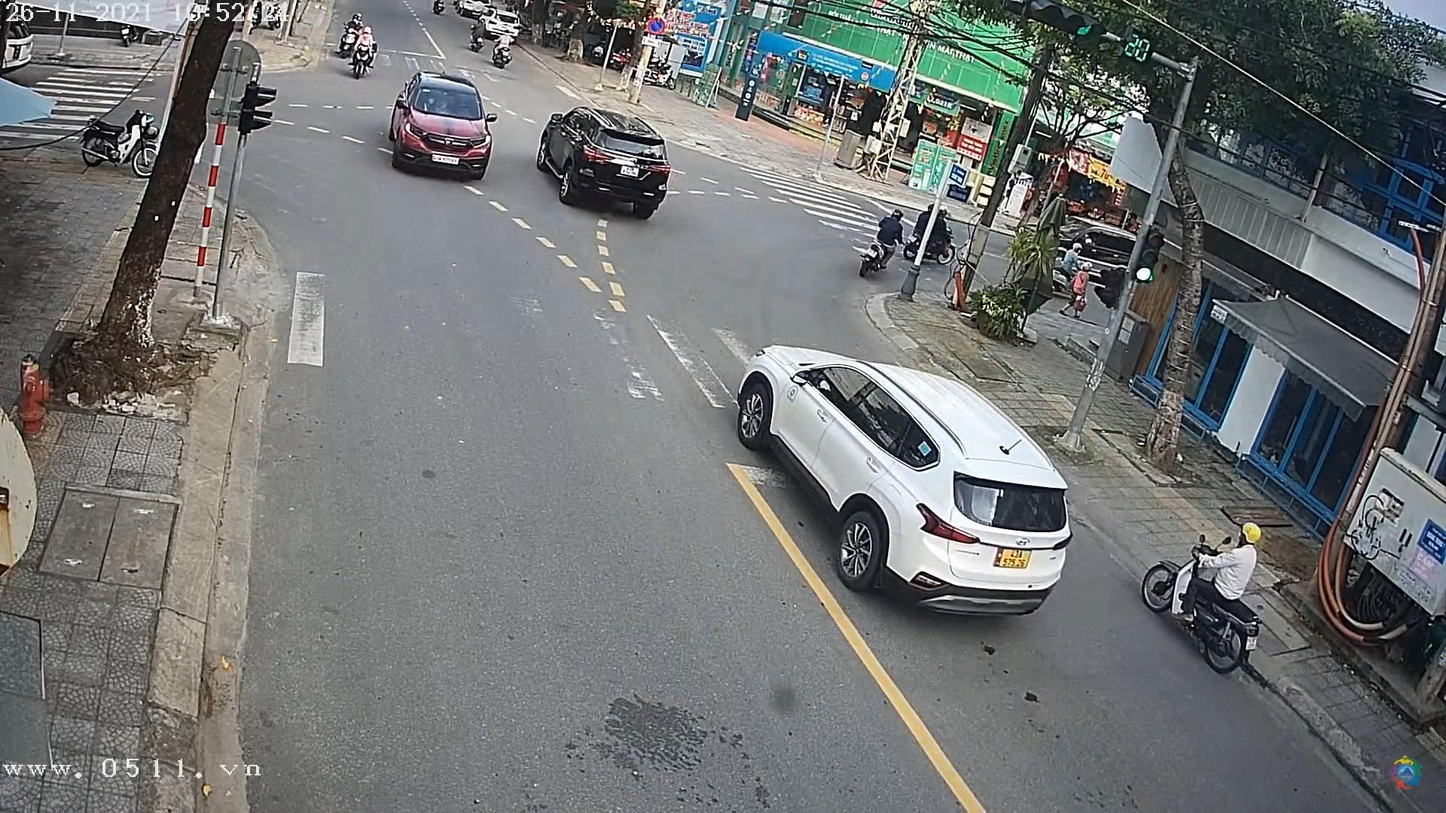car: (728, 346, 1078, 618), (533, 105, 675, 220), (387, 72, 495, 179)
motorbike: (1142, 533, 1265, 674), (351, 38, 375, 77), (490, 41, 516, 69)
